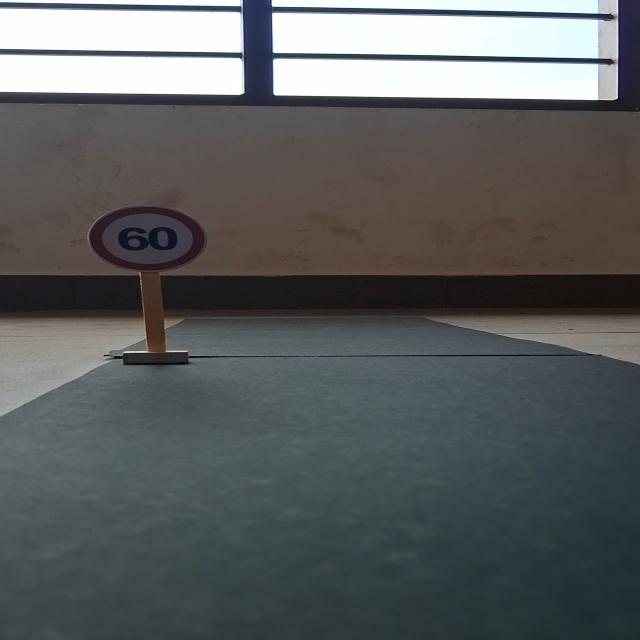Speed60: (88, 203, 206, 272)
